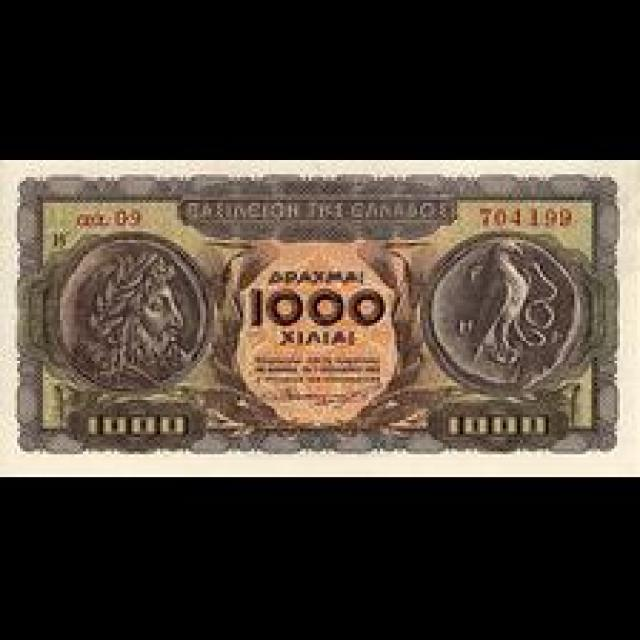banknote: (1, 162, 640, 476), (249, 277, 382, 343), (70, 393, 208, 452), (434, 399, 577, 450)
